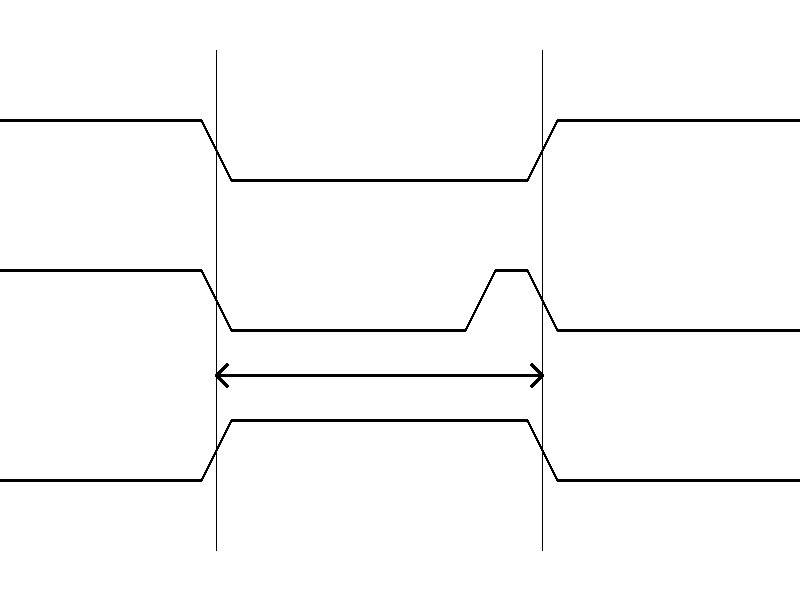double_arrow: (216, 360, 542, 390)
